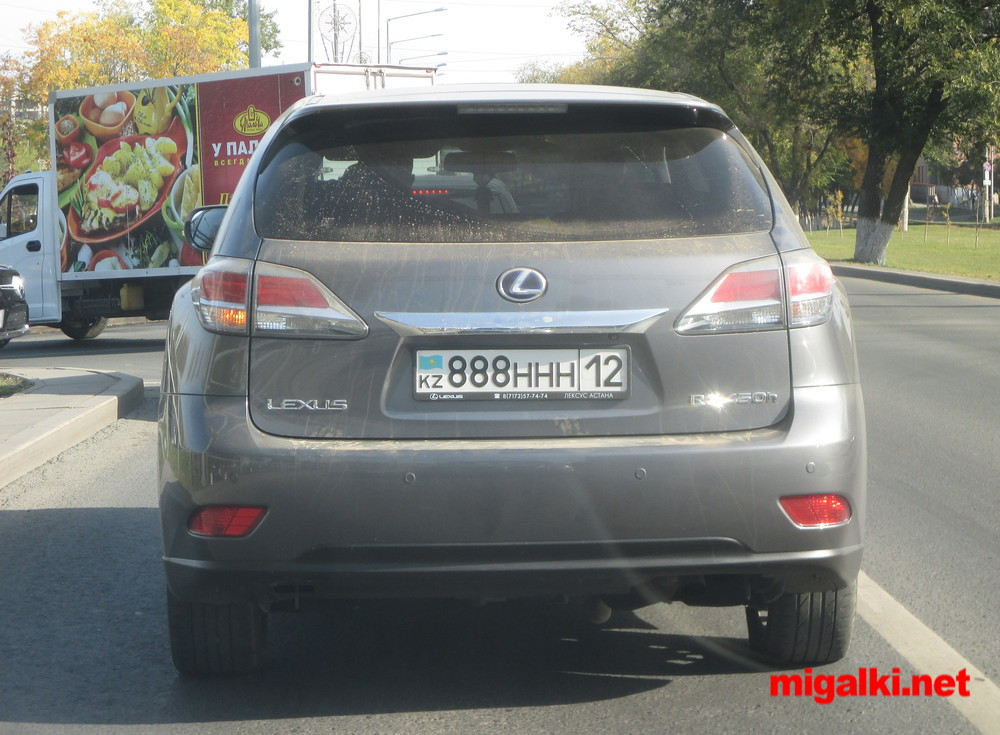license_plate: (418, 352, 629, 390)
